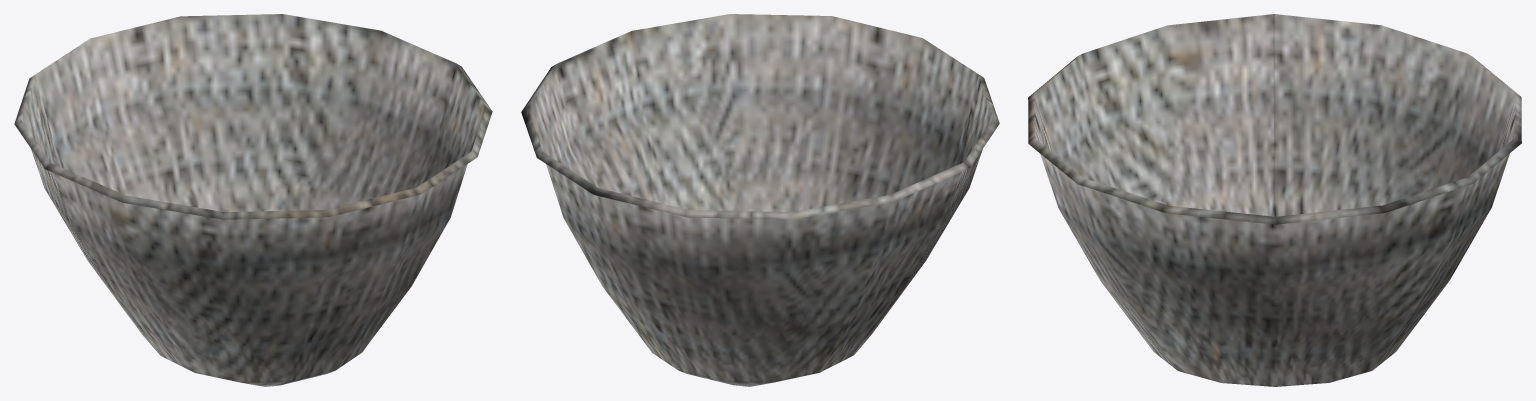
The model's file is WovenBasket.fbx.
The picture shows the model from 3 angles, left to right: view 1: azimuth 30°, elevation 25°; view 2: azimuth 150°, elevation 25°; view 3: azimuth 270°, elevation 25°; orthographic projection. The views are drawn at different scales.
Parts seen in each view (by area): view 1: Basket; view 2: Basket; view 3: Basket.
Boxes of the visible parts, <box> form: Basket: <box>14,14,492,386</box>; Basket: <box>521,14,999,386</box>; Basket: <box>1028,14,1521,386</box>.
Size of the model in its own units: 15 by 8 by 15.
1 material, 1 textured.
